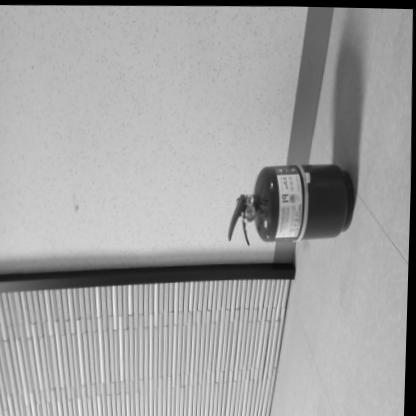FE: (226, 160, 357, 245)
